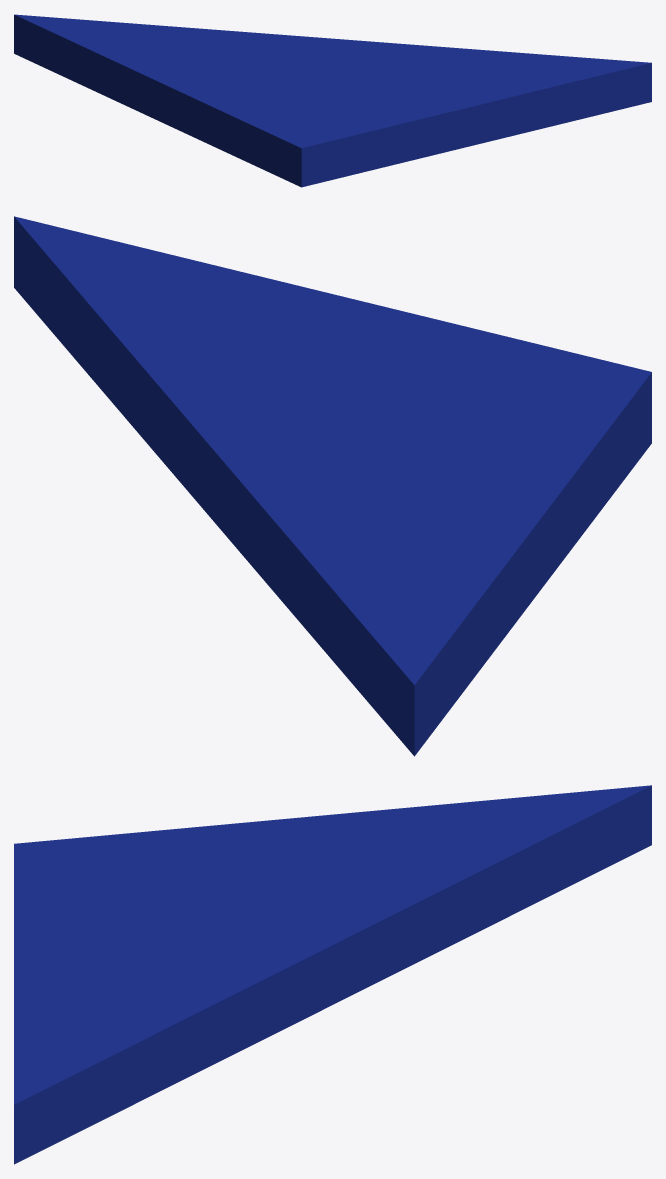
3 views of the same model, one above another, from view 1: azimuth 30°, elevation 25°; view 2: azimuth 150°, elevation 25°; view 3: azimuth 270°, elevation 25° (orthographic). The views are drawn at different scales.
Visible parts, largest first — view 1: Cylinder.002; view 2: Cylinder.002; view 3: Cylinder.002.
Part boxes in pixels (x1,y1,x2,y2): Cylinder.002: [14, 14, 651, 187]; Cylinder.002: [14, 216, 651, 756]; Cylinder.002: [14, 785, 651, 1164].
Size of the model in its own units: 42.45 by 3.71 by 35.82.
